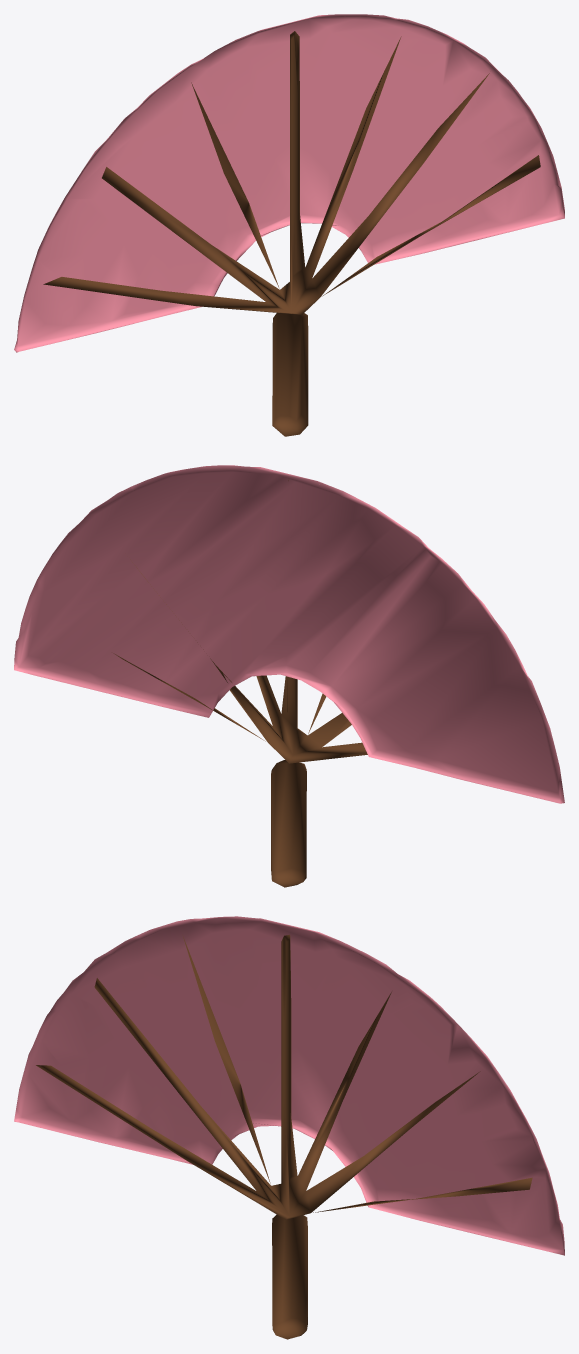
The model's file is wpn_jumbo.glb.
3 views of the same model, one above another, from view 1: azimuth 30°, elevation 25°; view 2: azimuth 150°, elevation 25°; view 3: azimuth 330°, elevation 25° (orthographic).
Parts seen in each view (by area): view 1: body; view 2: body; view 3: body.
Boxes of the visible parts, left/top/right/bottom form: body: left=14, top=14, right=564, bottom=436; body: left=14, top=465, right=564, bottom=887; body: left=14, top=916, right=564, bottom=1339.
Size of the model in its own units: 2.38 by 1.69 by 0.1357.
1 material, 1 textured.
